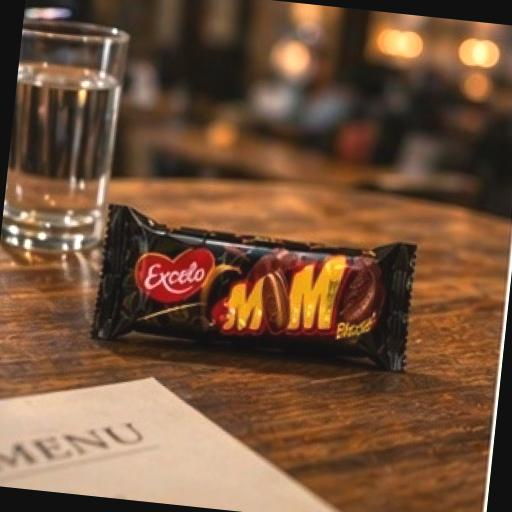MOMO: (88, 200, 462, 394)
